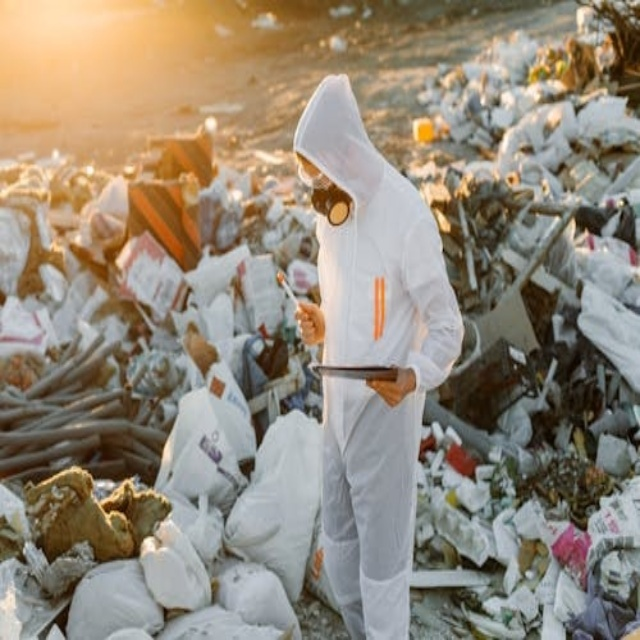Gafas: (292, 157, 333, 191)
Mascara: (308, 183, 356, 231)
Sin_guantes: (365, 367, 415, 408), (294, 300, 325, 347)
